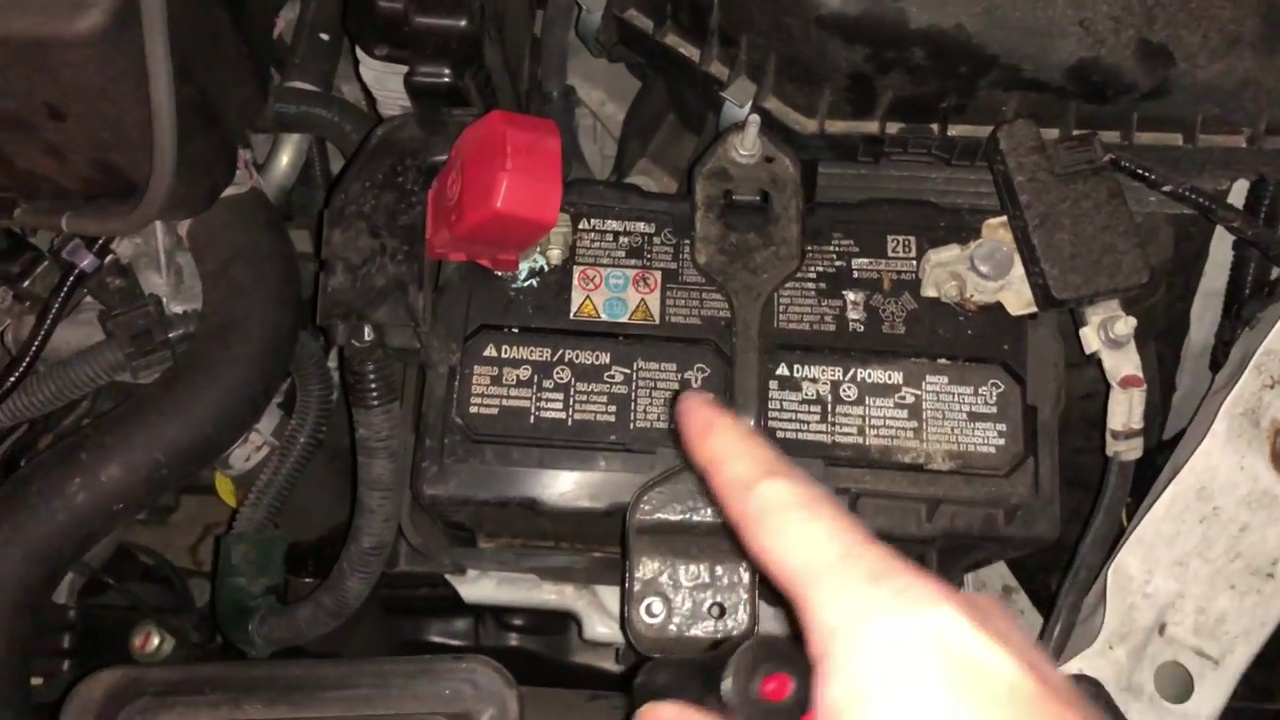battery: (430, 136, 1076, 579)
neg_connected: (893, 172, 1080, 328)
pos_connected: (397, 124, 586, 275)
